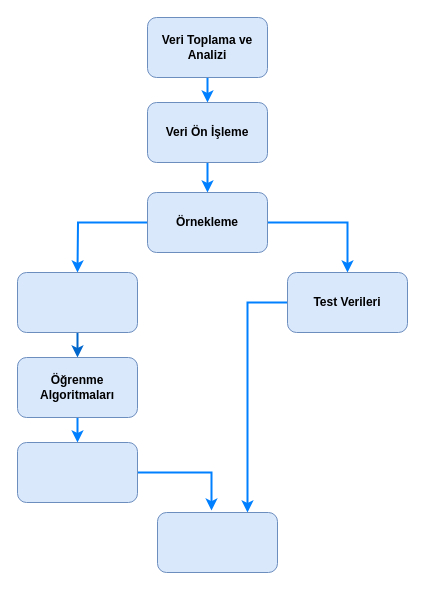
The diagram is 425 pixels wide and 590 high, and some of its shapes have lost their labels. The centre of each missing label's shape, as x and y in pixels:
"Eğitim Verileri" belongs at point (77, 302).
"Model Değerlendirmesi" belongs at point (217, 542).
"Nihai Modeli Oluşturmak" belongs at point (77, 472).
